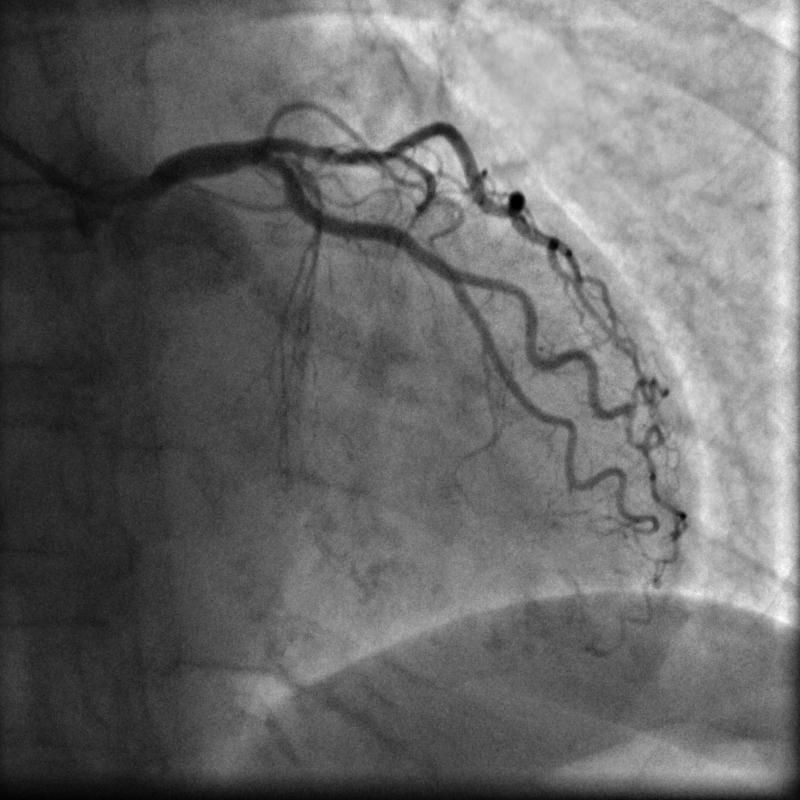Stenosis: (328, 144, 358, 168)
